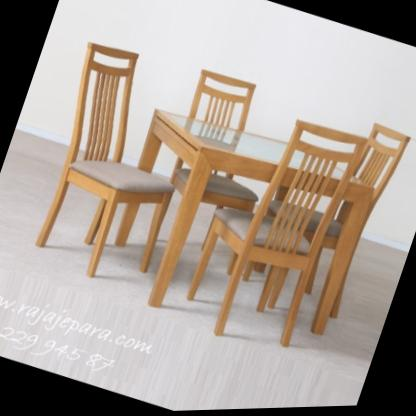Dining Table: (0, 11, 416, 391)
